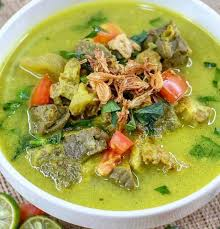soto: (1, 1, 220, 215)
